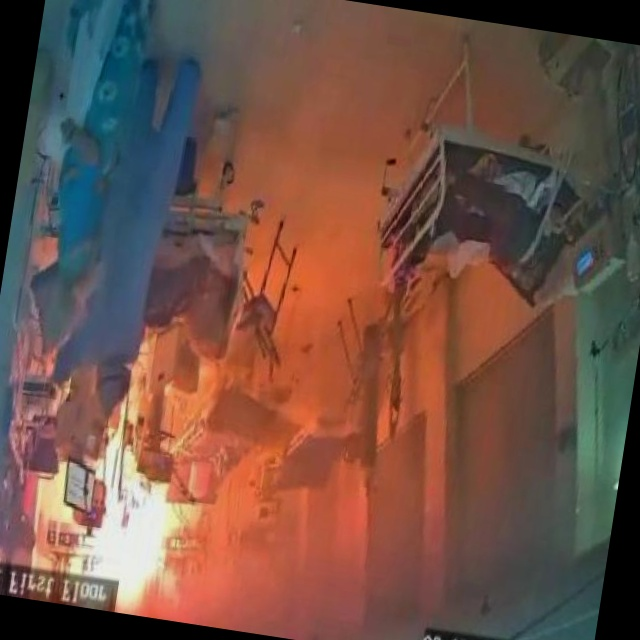fire: (49, 413, 238, 620)
